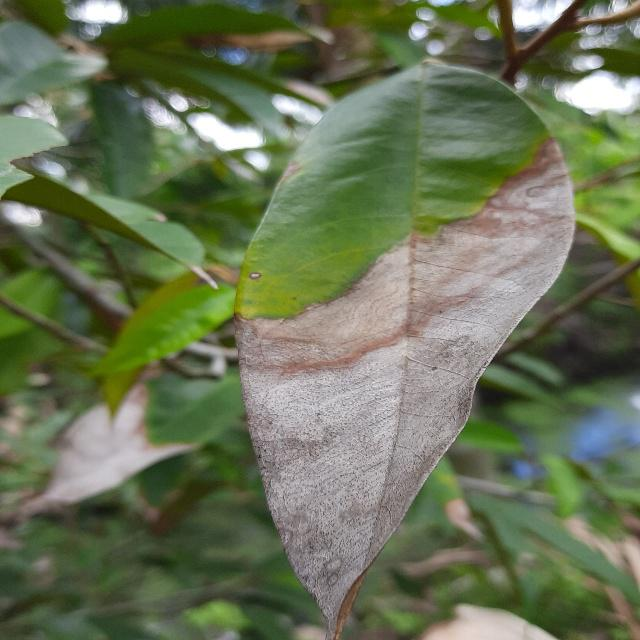Leaf Blight: (219, 49, 588, 639)
